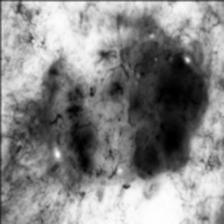Potentially Malignant Skin Tumors: (28, 19, 214, 190)
